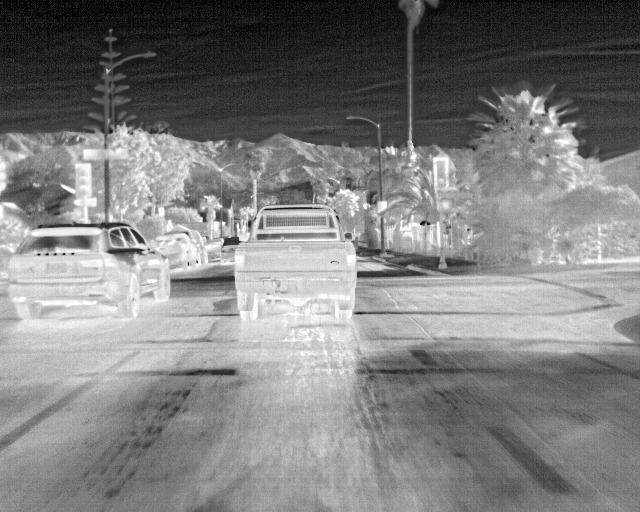car: (7, 221, 171, 321), (234, 203, 358, 321), (154, 232, 198, 271), (164, 229, 209, 265), (220, 236, 246, 266)
light: (78, 166, 89, 196), (437, 160, 446, 188), (441, 199, 453, 212), (73, 207, 85, 219), (237, 223, 239, 229), (239, 229, 240, 231)
sign: (83, 148, 129, 160), (73, 198, 97, 207), (378, 201, 387, 213), (159, 207, 165, 216)
